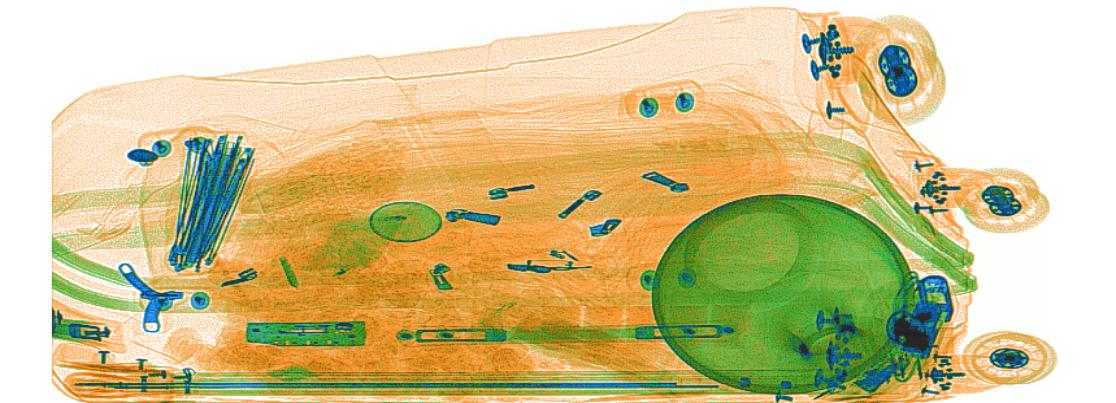battery: (904, 298, 943, 337)
